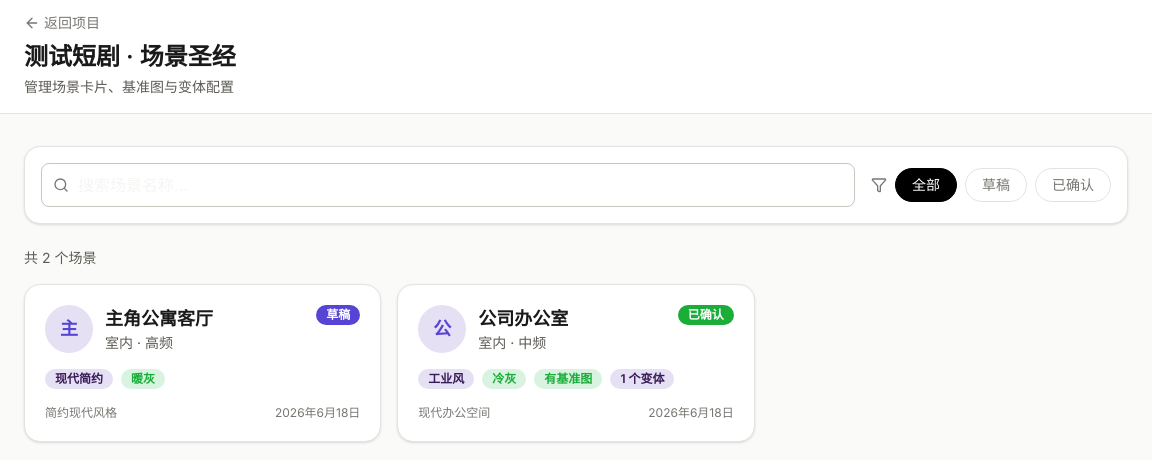
Test case: LocationListPage › filters locations by status
Expected: the heading "主角公寓客厅" is shown, [105,305,213,333]
Click the button "已确认" at (1073, 185), box [1035,168,1111,202]
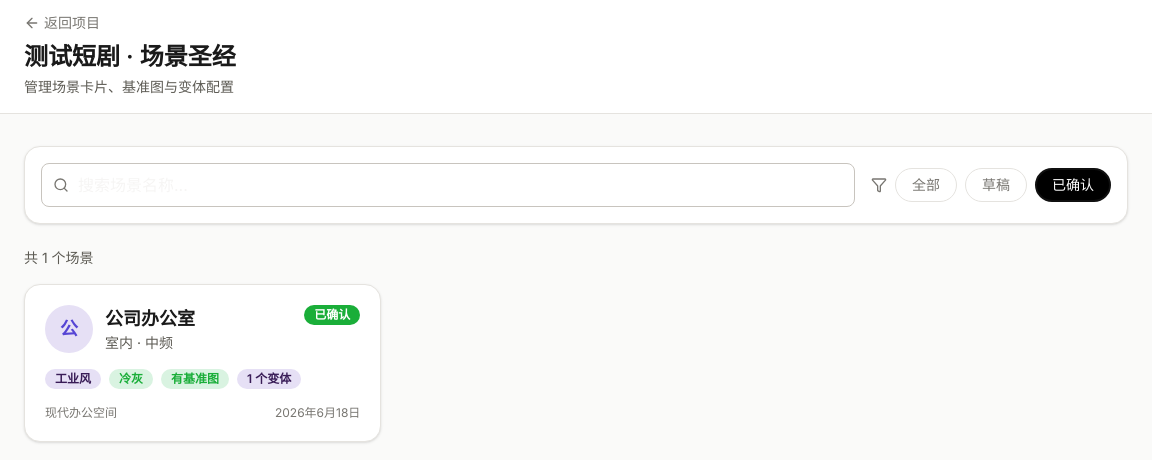
Expected: the heading "公司办公室" is shown, [105,305,195,333]
Now the link "主角公寓客厅" is gone
